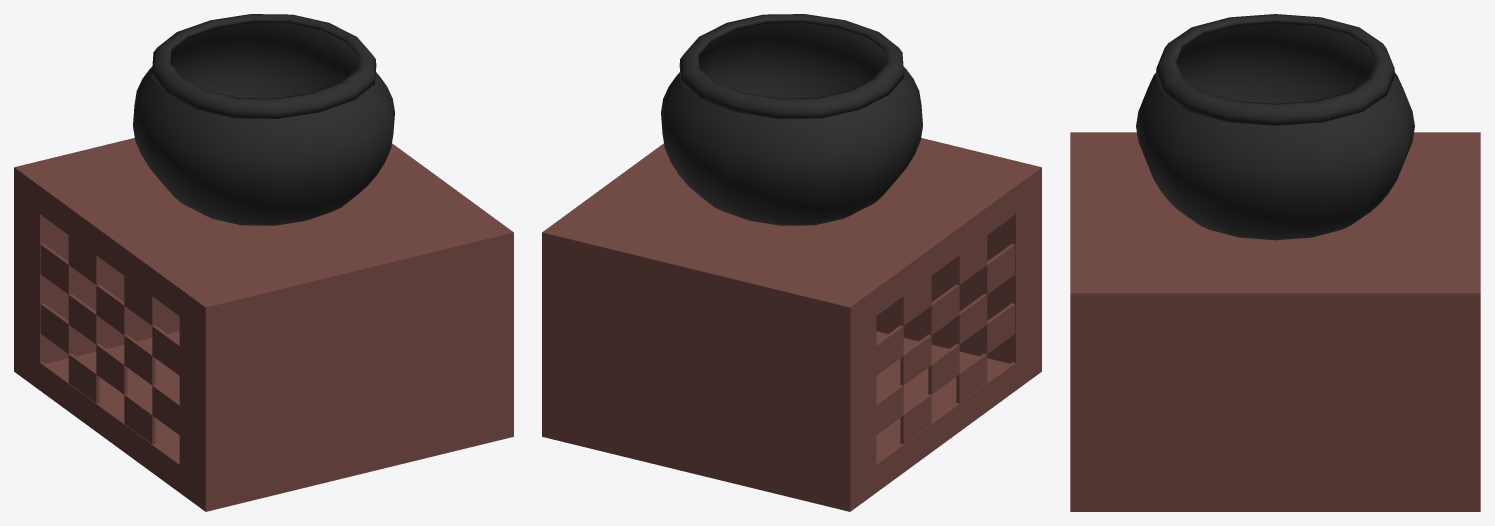
The model's file is Cuisine.fbx.
3 views of the same model, side by side, from view 1: azimuth 30°, elevation 25°; view 2: azimuth 150°, elevation 25°; view 3: azimuth 270°, elevation 25° (orthographic). The views are drawn at different scales.
Visible parts, largest first — view 1: Cube.004, Cube.002; view 2: Cube.004, Cube.002; view 3: Cube.004, Cube.002.
Boxes of the visible parts, x1,y1,x2,y2 form: Cube.004: (14, 138, 513, 511); Cube.002: (133, 14, 394, 225); Cube.004: (542, 138, 1041, 511); Cube.002: (661, 14, 922, 225); Cube.004: (1070, 132, 1480, 511); Cube.002: (1136, 14, 1414, 240).
Size of the model in its own units: 316 by 339 by 340.
